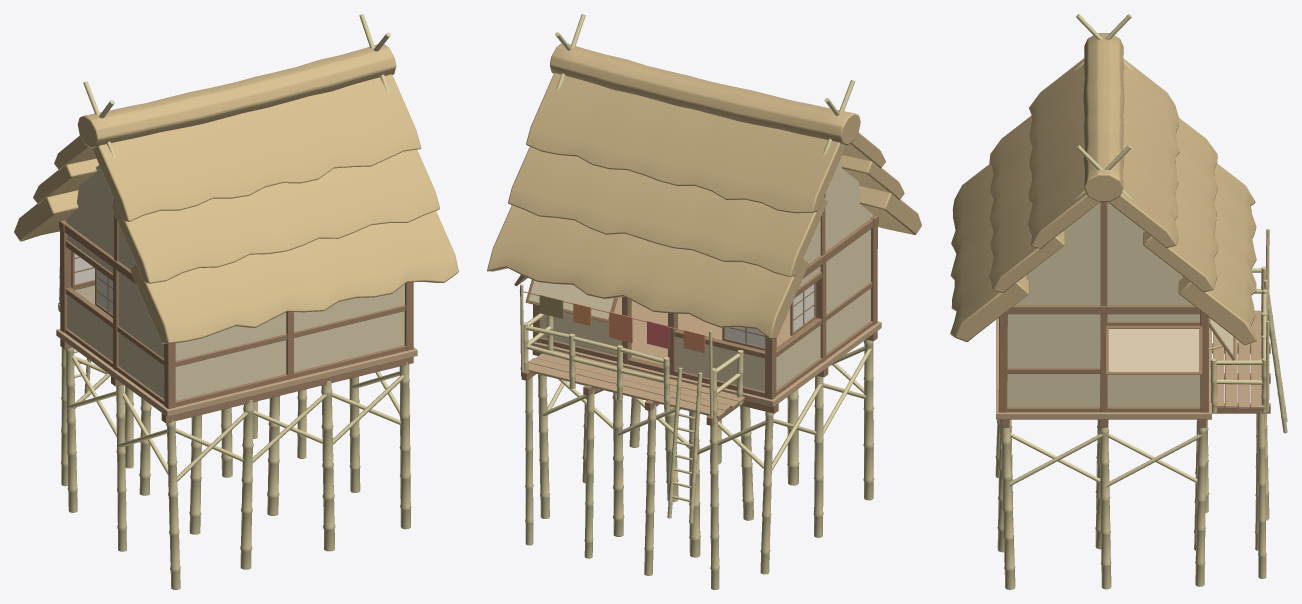
Rendered from house_water_16838.glb.
The picture shows the model from 3 angles, left to right: view 1: azimuth 30°, elevation 25°; view 2: azimuth 150°, elevation 25°; view 3: azimuth 270°, elevation 25°; orthographic projection. The views are drawn at different scales.
Parts seen in each view (by area): view 1: water_16838_thatch, water_16838_bamboo, water_16838_sawali, water_16838_timber, water_16838_plank, water_16838_capiz; view 2: water_16838_thatch, water_16838_bamboo, water_16838_sawali, water_16838_timber, water_16838_plank, water_16838_cloth, water_16838_capiz; view 3: water_16838_thatch, water_16838_sawali, water_16838_bamboo, water_16838_timber, water_16838_plank.
Boxes of the visible parts, bbox=[...] form: water_16838_thatch: bbox=[14, 44, 458, 343]; water_16838_bamboo: bbox=[59, 14, 411, 589]; water_16838_sawali: bbox=[65, 165, 404, 400]; water_16838_timber: bbox=[58, 199, 413, 423]; water_16838_plank: bbox=[56, 304, 417, 416]; water_16838_capiz: bbox=[74, 253, 112, 314]; water_16838_thatch: bbox=[487, 43, 921, 338]; water_16838_bamboo: bbox=[520, 14, 874, 589]; water_16838_sawali: bbox=[520, 161, 872, 391]; water_16838_timber: bbox=[514, 194, 878, 425]; water_16838_plank: bbox=[520, 297, 881, 417]; water_16838_cloth: bbox=[523, 291, 712, 353]; water_16838_capiz: bbox=[725, 284, 814, 347]; water_16838_thatch: bbox=[950, 33, 1256, 345]; water_16838_sawali: bbox=[1007, 202, 1233, 407]; water_16838_bamboo: bbox=[995, 14, 1287, 589]; water_16838_timber: bbox=[998, 201, 1270, 427]; water_16838_plank: bbox=[996, 310, 1264, 419].
Size of the model in its own units: 7.03 by 10.42 by 7.06.
